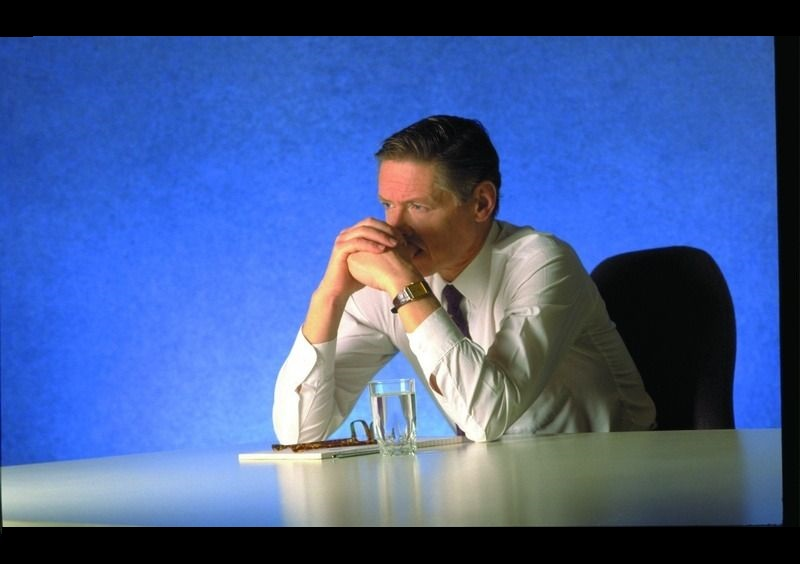face: (379, 163, 459, 273)
